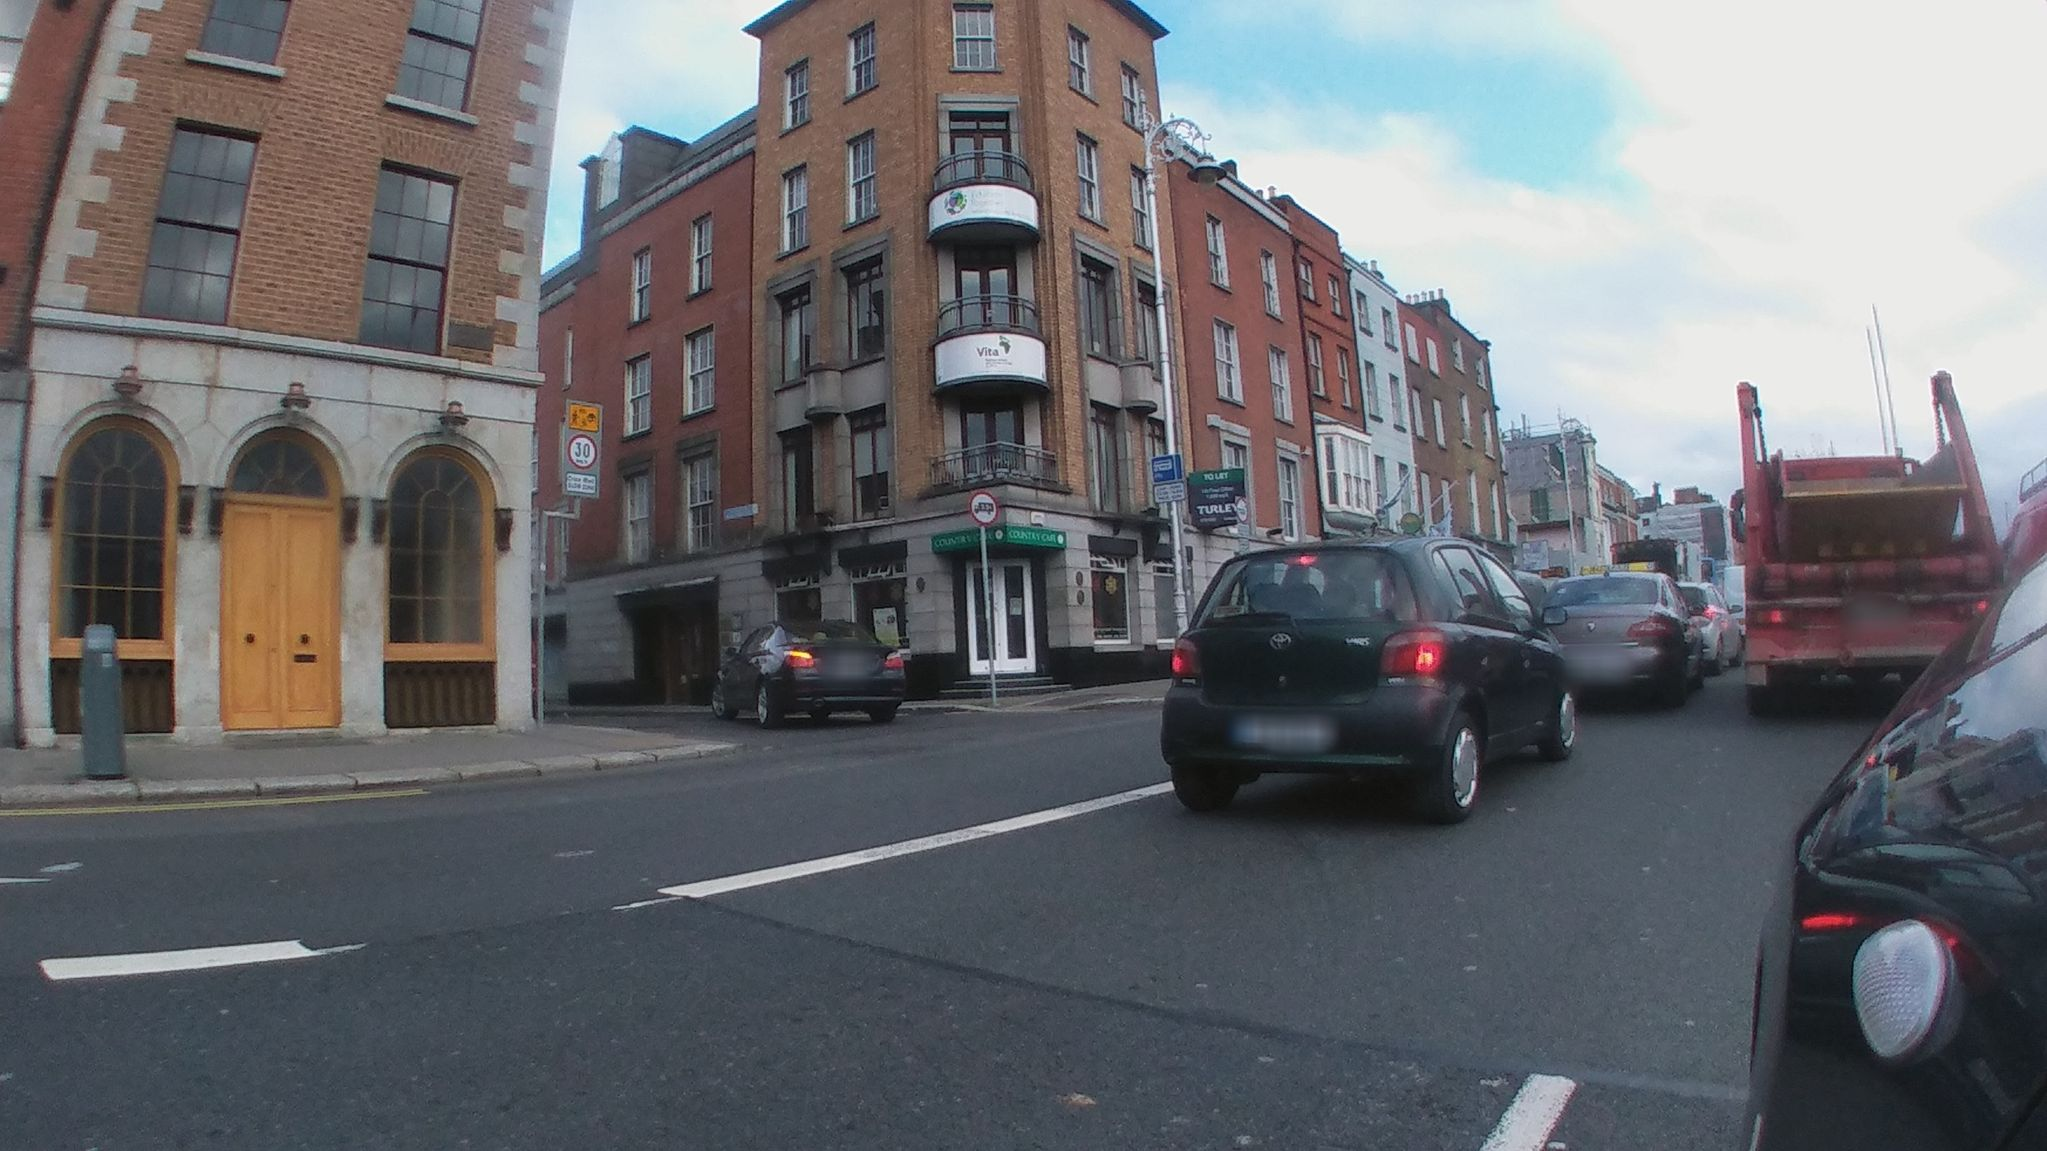property sign: (1177, 455, 1251, 534)
